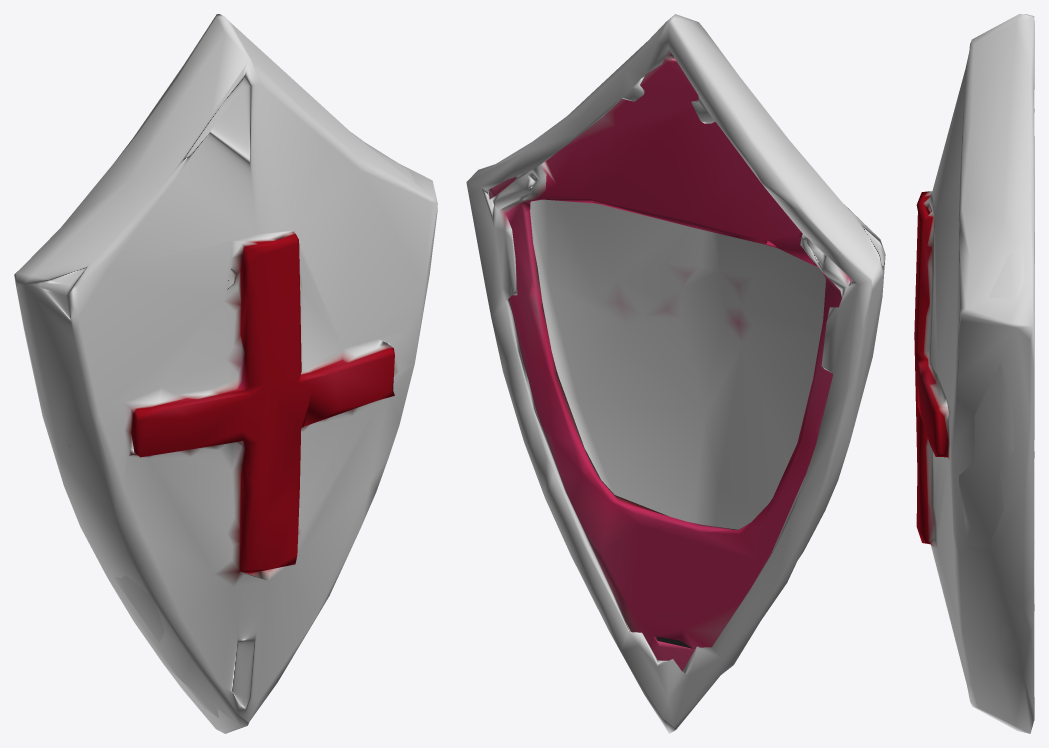
Rendered from gen3d-kite-shield-lod0.glb.
3 renders of one model, left to right at view 1: azimuth 30°, elevation 25°; view 2: azimuth 150°, elevation 25°; view 3: azimuth 270°, elevation 25°, orthographic.
Parts seen in each view (by area): view 1: part_0; view 2: part_0; view 3: part_0.
Part boxes in pixels (x1,y1,x2,y2): part_0: [14, 14, 437, 733]; part_0: [466, 14, 885, 733]; part_0: [914, 14, 1034, 733].
Size of the model in its own units: 0.5959 by 0.9981 by 0.1511.
